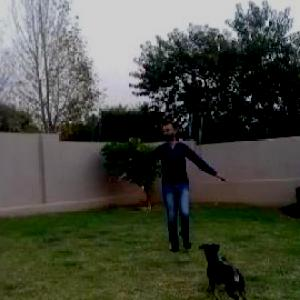land: (95, 115, 232, 281)
